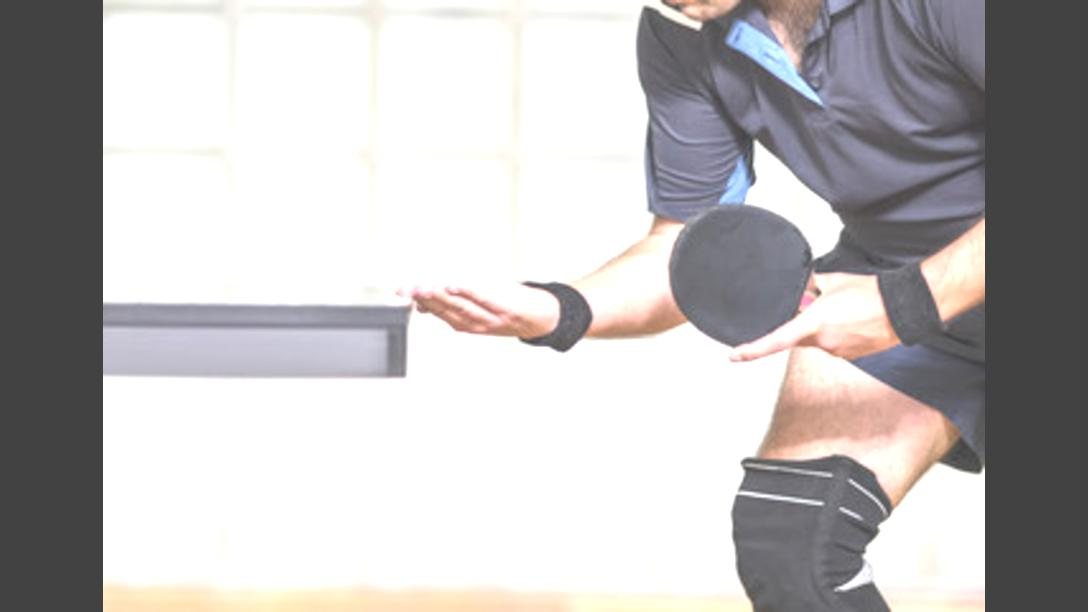Table-Tennis-Ball: (472, 266, 506, 290)
